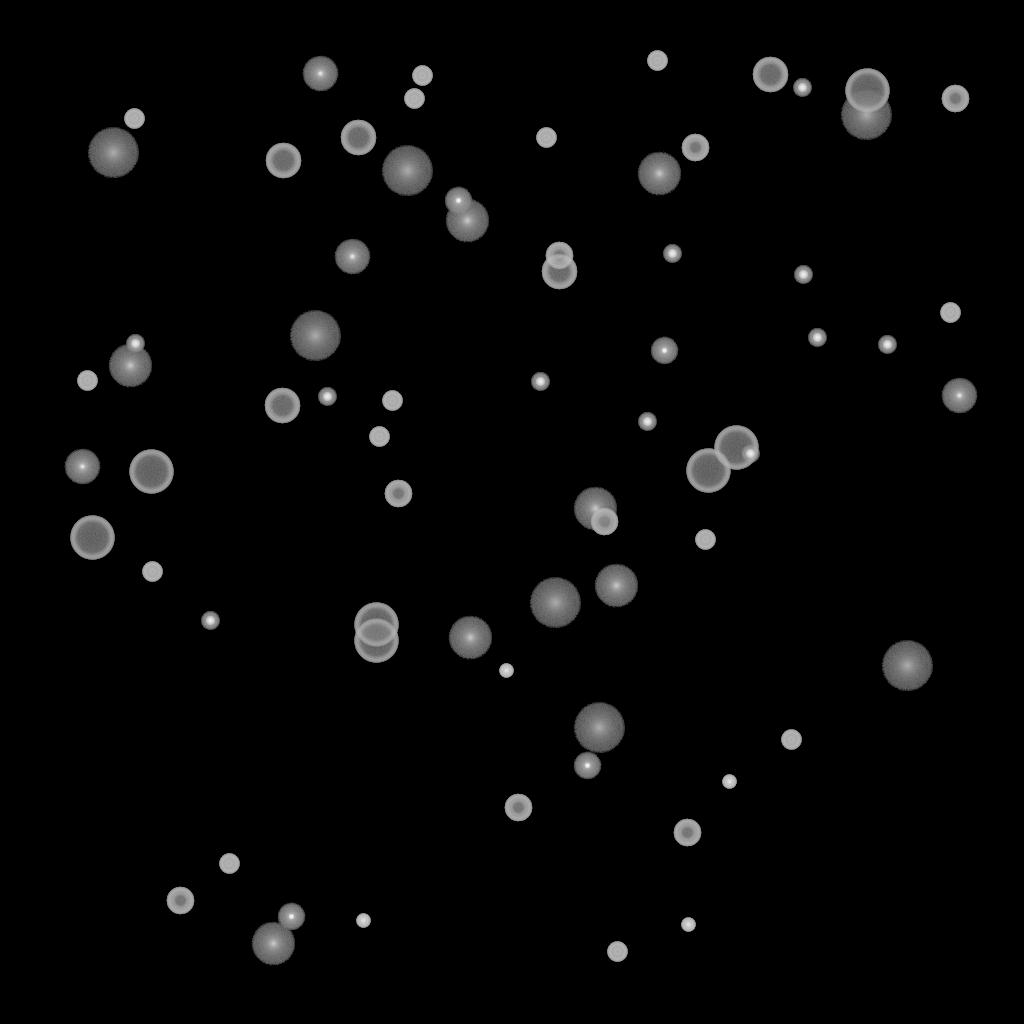depth:-10: (444, 187, 472, 215), (573, 752, 601, 780), (650, 337, 678, 365), (277, 903, 305, 931)
depth:-20: (878, 336, 896, 354), (808, 329, 826, 347), (201, 612, 219, 630), (663, 245, 681, 263), (126, 335, 144, 353), (318, 388, 336, 406), (793, 79, 811, 97), (741, 445, 759, 463), (794, 266, 812, 284), (531, 373, 549, 391), (638, 413, 656, 431)
depth:-30: (722, 775, 736, 789), (681, 918, 695, 932), (499, 664, 513, 678), (356, 914, 370, 928)
depth:-40: (647, 51, 667, 71), (124, 109, 144, 129), (607, 942, 627, 962), (781, 730, 801, 750), (142, 562, 162, 582), (940, 303, 960, 323), (412, 66, 432, 86), (77, 371, 97, 391), (536, 128, 556, 148), (695, 530, 715, 550), (404, 89, 424, 109), (219, 854, 239, 874), (369, 427, 389, 447), (382, 391, 402, 411)
depth:-50: (384, 480, 412, 508), (941, 85, 969, 113), (504, 794, 532, 822), (166, 887, 194, 915), (590, 508, 618, 536), (545, 242, 573, 270), (681, 134, 709, 162), (673, 819, 701, 847)
depth:-60: (340, 120, 376, 156), (265, 143, 301, 179), (541, 254, 577, 290), (264, 388, 300, 424), (752, 57, 788, 93)
depth:-70: (686, 449, 730, 493), (845, 69, 889, 113), (354, 603, 398, 647), (714, 426, 758, 470), (354, 619, 398, 663), (70, 516, 114, 560), (129, 450, 173, 494)
depth:0: (941, 378, 977, 414), (64, 449, 100, 485), (334, 239, 370, 275), (302, 56, 338, 92)
depth:10: (108, 344, 152, 388), (637, 152, 681, 196), (448, 616, 492, 660), (251, 922, 295, 966), (594, 564, 638, 608), (445, 199, 489, 243), (573, 487, 617, 531)
depth:20: (87, 128, 139, 178), (529, 578, 581, 628), (881, 641, 933, 691), (573, 703, 625, 753), (381, 146, 433, 196), (289, 311, 341, 361), (840, 90, 892, 140)
